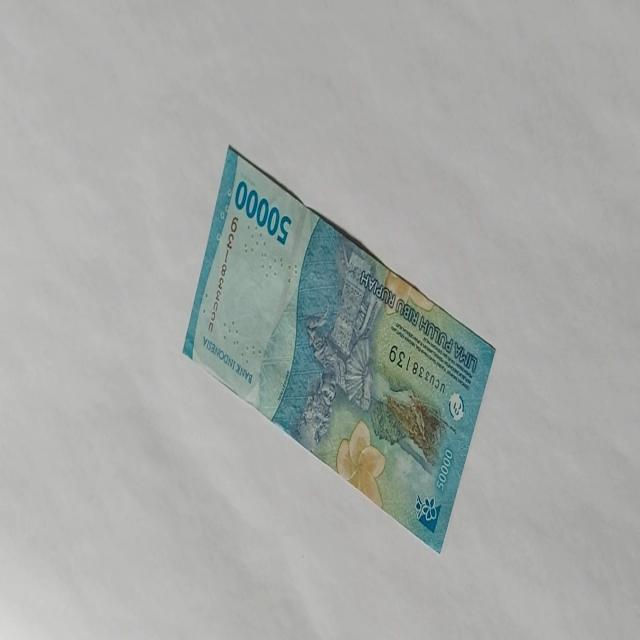lima puluh ribu rupiah: (182, 142, 496, 554), (234, 178, 292, 248)
